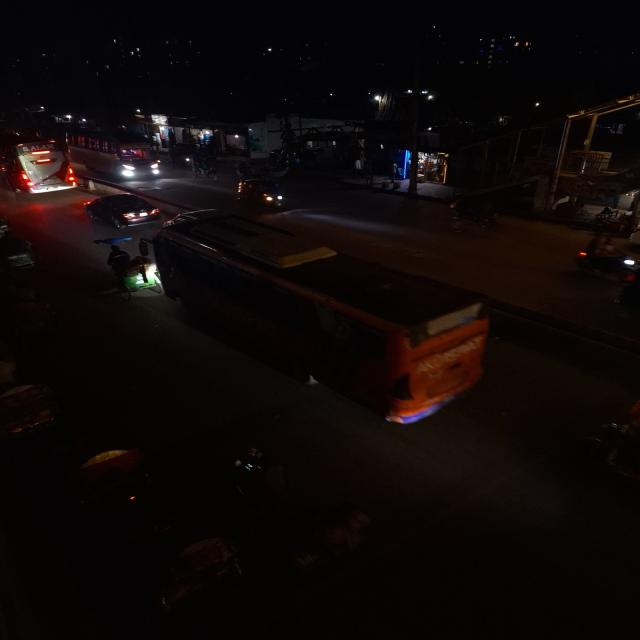bus: (148, 213, 507, 433), (65, 127, 165, 185), (4, 137, 76, 197)
car: (82, 192, 165, 232)
cng: (232, 177, 288, 210)
rickshaw: (0, 350, 66, 451), (99, 243, 162, 300), (442, 196, 508, 237), (0, 233, 43, 282), (0, 208, 13, 244)
